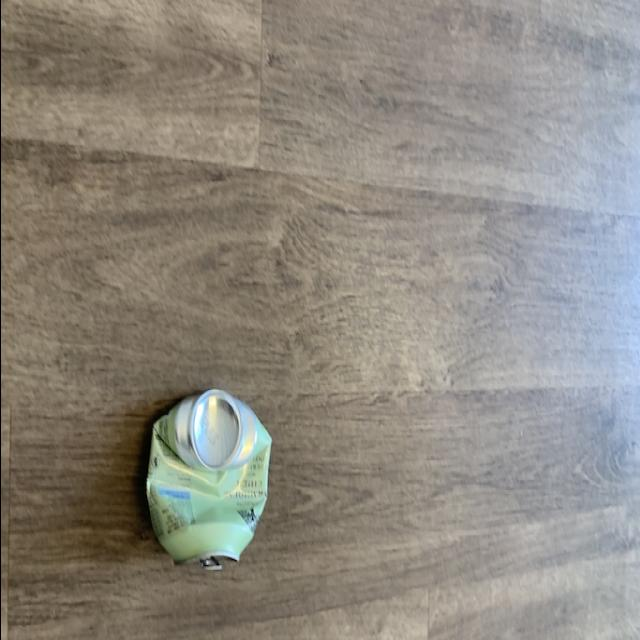Aluminum Can: (137, 344, 285, 585)
